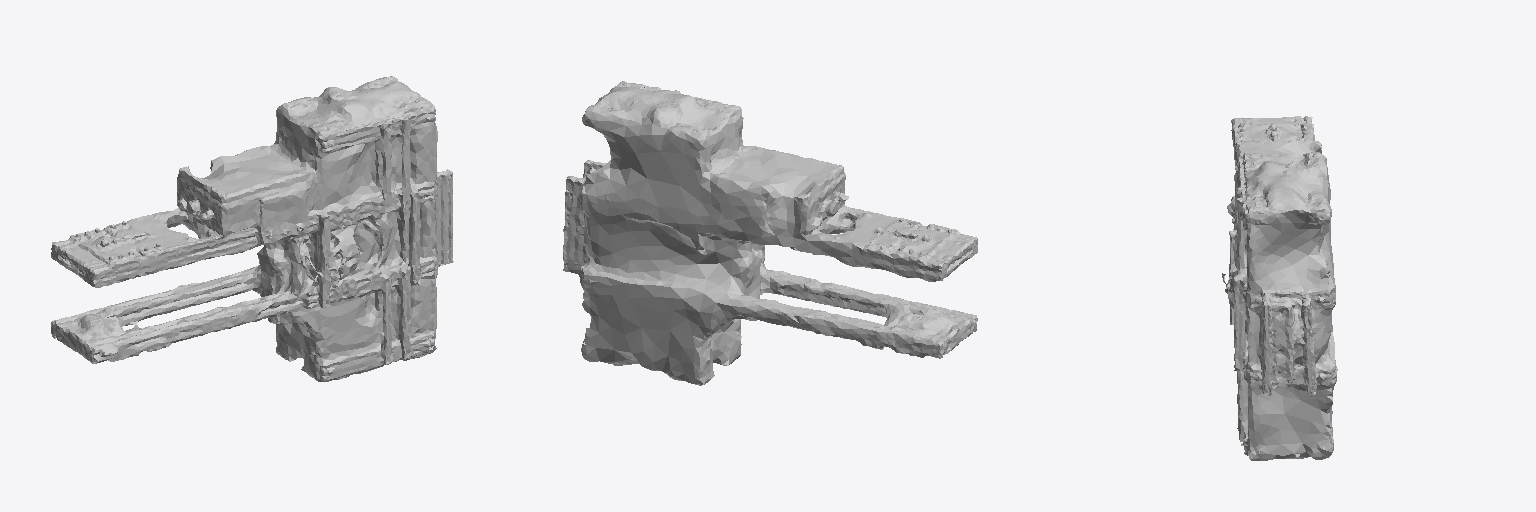
3 renders of one model, left to right at view 1: azimuth 30°, elevation 25°; view 2: azimuth 150°, elevation 25°; view 3: azimuth 270°, elevation 25°, orthographic.
Parts seen in each view (by area): view 1: Body_Texture; view 2: Body_Texture; view 3: Body_Texture.
Part boxes in pixels (x1,y1,x2,y2): Body_Texture: (51,76,453,381); Body_Texture: (563,81,977,385); Body_Texture: (1222,116,1337,460).
Bounding box in the file's own units: 1.36 × 0.9215 × 0.3585.